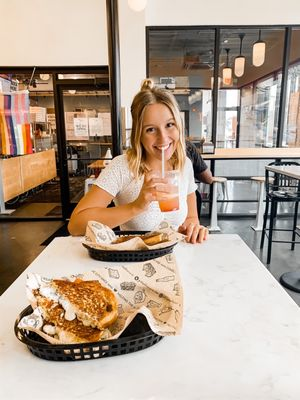curry: (0, 230, 300, 399)
pasta: (260, 164, 300, 268), (211, 176, 265, 231)
